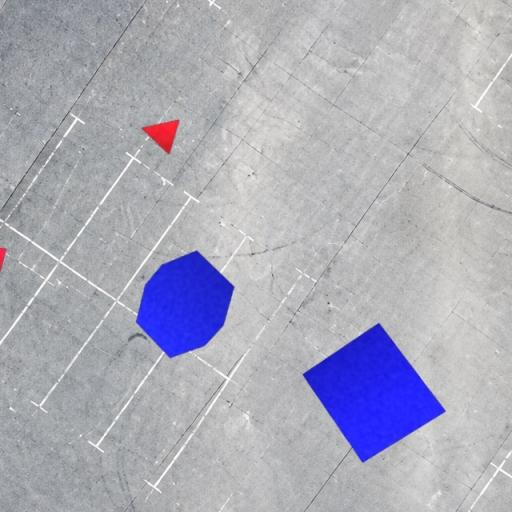BLUE_SQUARE: (302, 322, 446, 464)
